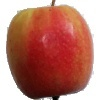apple: (7, 4, 95, 100)
